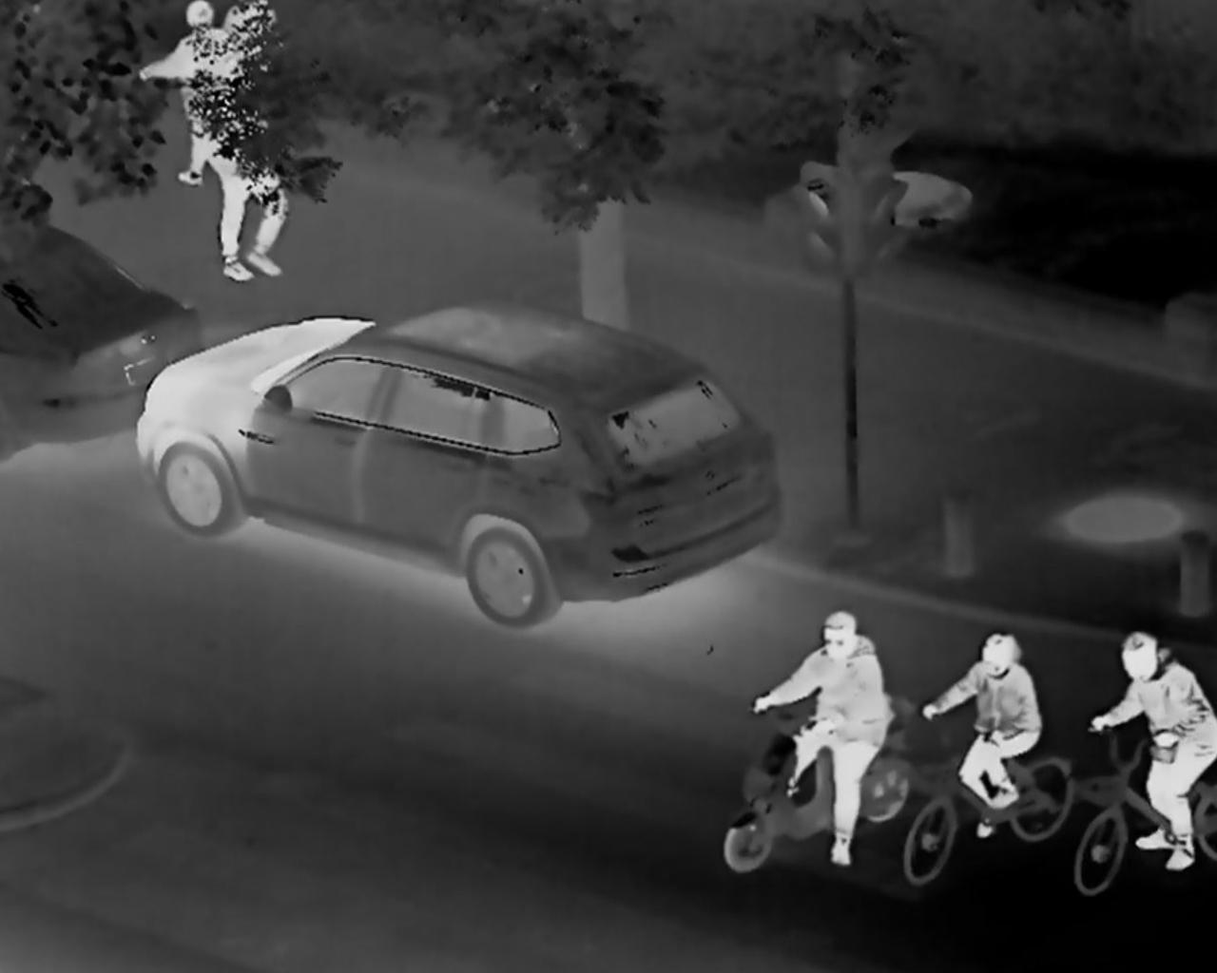person: (746, 603, 887, 872), (1086, 624, 1216, 880), (921, 625, 1044, 838), (124, 2, 235, 178), (211, 71, 290, 283)
